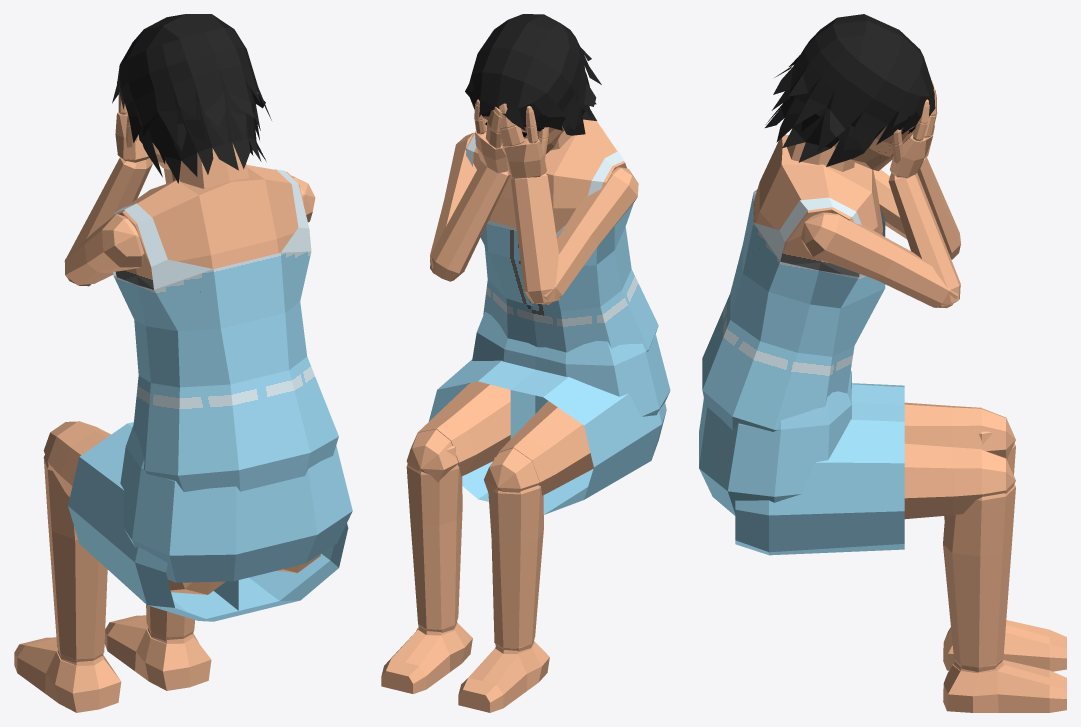
The model's file is DreamLevelImage2Naomi.gltf.
The picture shows the model from 3 angles, left to right: view 1: azimuth 30°, elevation 25°; view 2: azimuth 150°, elevation 25°; view 3: azimuth 270°, elevation 25°; orthographic projection. The views are drawn at different scales.
Parts seen in each view (by area): view 1: Dress (×4), Hair, Torso, Left Lower Leg, Left Foot, Right Foot, Left Lower Arm, sphere (×2), Left Upper Leg, Left Upper Arm, Neck, Right Lower Leg (+1 smaller); view 2: Dress (×4), Hair, Right Lower Leg, Left Lower Leg, Torso, Right Upper Leg, Left Upper Leg, Left Lower Arm, Left Upper Arm, Right Foot, Left Foot, Right Lower Arm (+3 smaller); view 3: Dress (×4), Hair, Right Lower Leg, Torso, Right Foot, Right Upper Arm, Right Upper Leg, sphere (×3), Right Lower Arm, Left Upper Leg, Left Foot, Left Lower Arm (+4 smaller).
Part boxes in pixels (x1,y1,x2,y2): Dress (×4): (68, 169, 352, 621); Hair: (112, 14, 271, 183); Torso: (113, 165, 301, 292); Left Lower Leg: (43, 457, 107, 659); Left Foot: (14, 637, 121, 712); Right Foot: (104, 615, 211, 690); Left Lower Arm: (66, 158, 152, 258); sphere (×2): (102, 214, 225, 594); Left Upper Leg: (47, 421, 110, 496); Left Upper Arm: (65, 215, 140, 285); Neck: (175, 144, 248, 188); Right Lower Leg: (146, 604, 194, 637); Dress (×4): (428, 134, 670, 514); Hair: (465, 14, 601, 135); Right Lower Leg: (406, 466, 462, 629); Left Lower Leg: (488, 486, 543, 648); Torso: (465, 119, 626, 233); Right Upper Leg: (410, 381, 510, 476); Left Upper Leg: (497, 401, 593, 495); Left Lower Arm: (511, 175, 558, 291); Left Upper Arm: (554, 174, 637, 297); Right Foot: (381, 623, 472, 693); Left Foot: (458, 642, 549, 712); Right Lower Arm: (431, 162, 510, 273); Dress (×4): (699, 189, 904, 555); Hair: (765, 14, 935, 166); Right Lower Leg: (943, 487, 1015, 667); Torso: (753, 135, 884, 276); Right Foot: (943, 660, 1066, 712); Right Upper Arm: (813, 214, 949, 307); Right Upper Leg: (904, 443, 981, 519); sphere (×3): (801, 212, 1015, 496); Right Lower Arm: (888, 173, 960, 289); Left Upper Leg: (904, 402, 981, 449); Left Foot: (943, 620, 1066, 671); Left Lower Arm: (917, 157, 960, 253).
Size of the model in its own units: 0.2074 by 0.6718 by 0.339.
9 materials, 9 textured.
